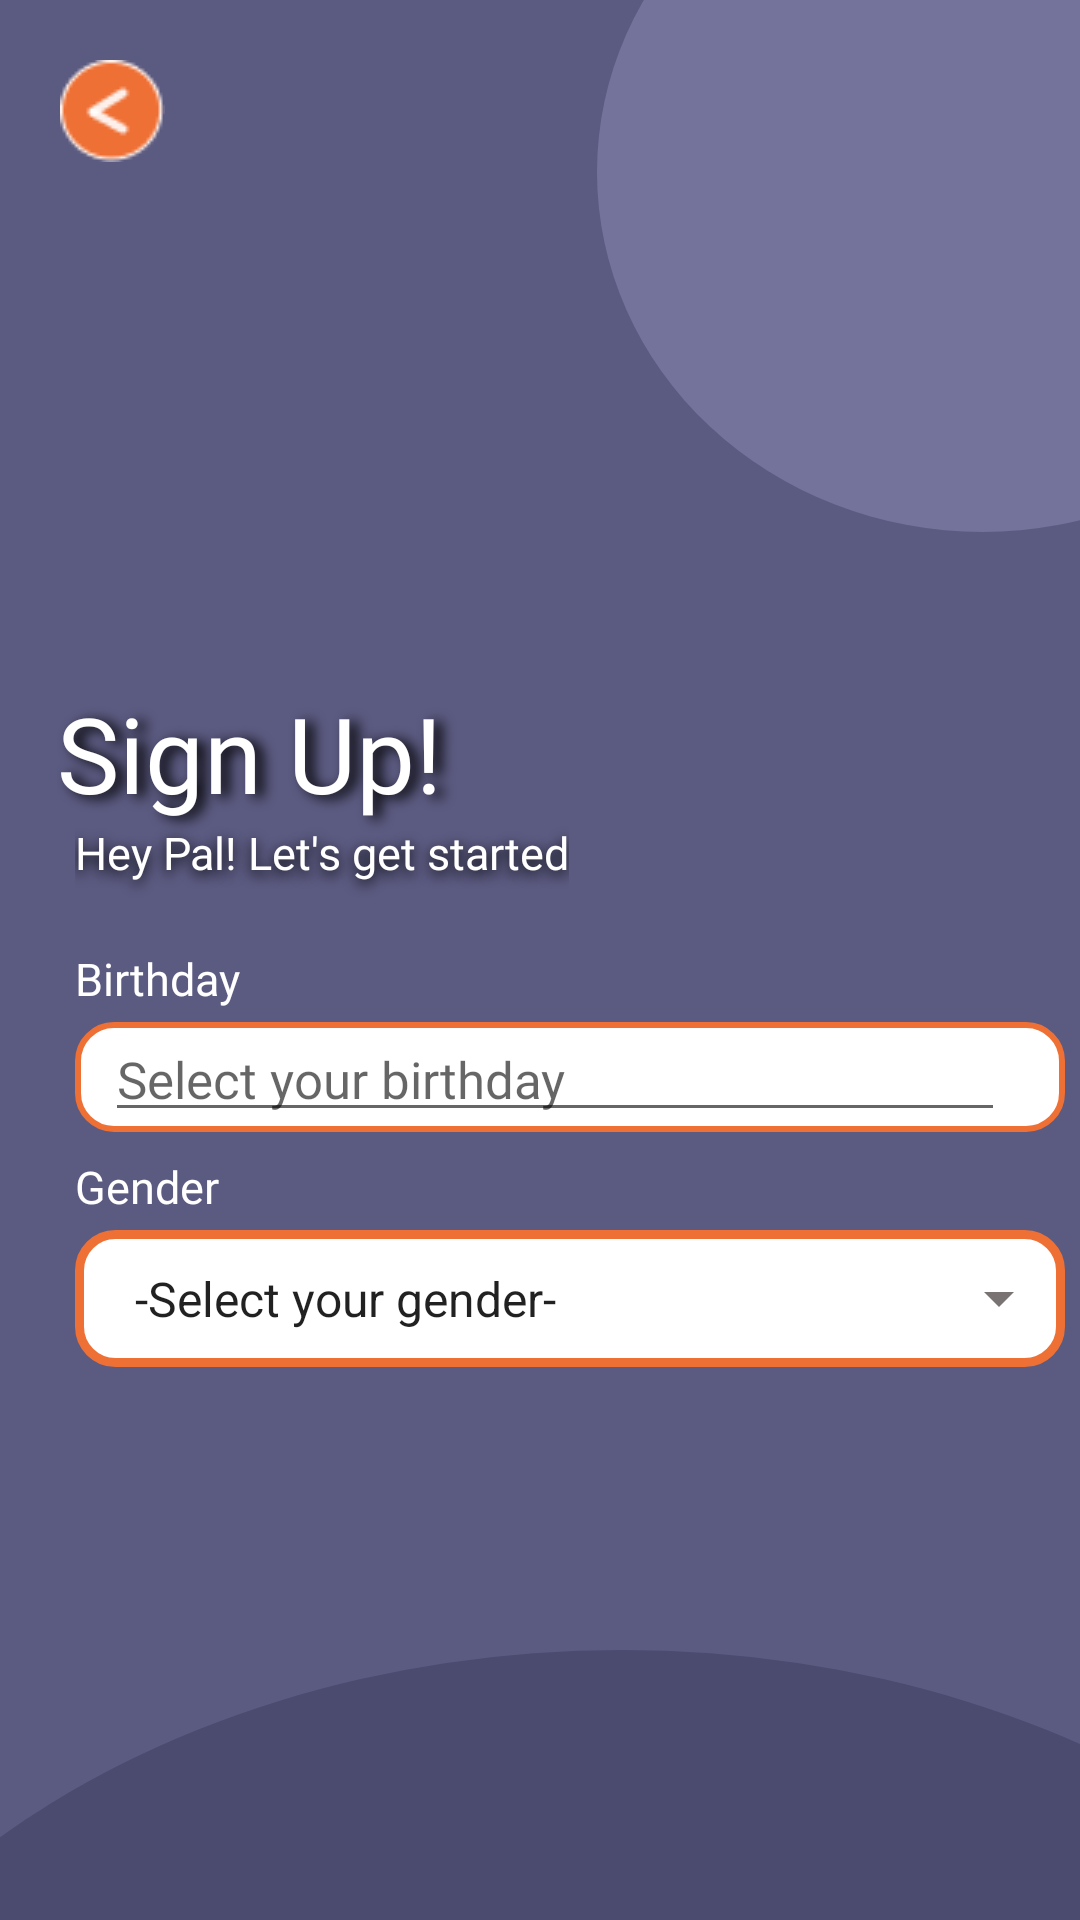

Named icons in this screenshot (1080px x 1920px) and their bounding boxes, (x1, y1, x2, y2):
back: (60, 60, 163, 162)
dropdown: (984, 1292, 1014, 1307)
